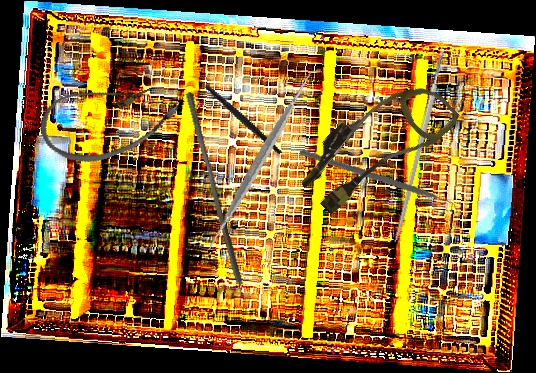Cannula: (289, 59, 463, 231), (31, 58, 188, 178)
Chopper: (299, 119, 460, 248), (186, 54, 283, 176)
Pusher: (177, 90, 252, 287)
Scalpel Handle: (392, 48, 448, 244)
Spatula Surgical: (172, 68, 349, 252)
